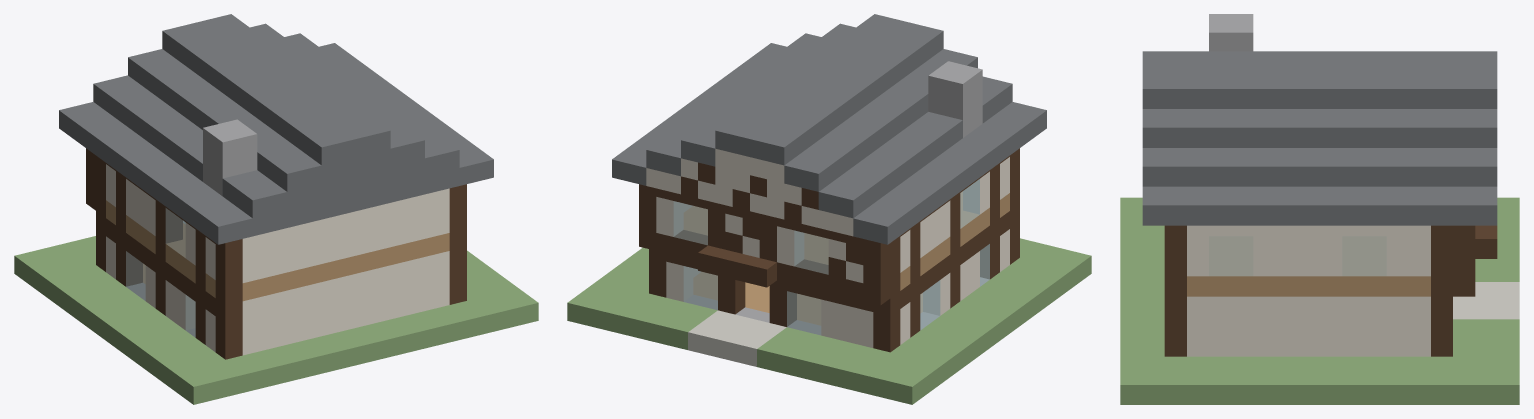
File: street_house.glb
The picture shows the model from 3 angles, left to right: view 1: azimuth 30°, elevation 25°; view 2: azimuth 150°, elevation 25°; view 3: azimuth 270°, elevation 25°; orthographic projection. The views are drawn at different scales.
Visible parts, largest first — view 1: street_house_part_142, street_house_part_136, street_house_part_040, street_house_part_005, street_house_part_102, street_house_part_010, street_house_part_126, street_house_part_135, street_house_part_127, street_house_part_118, street_house_part_128, street_house_part_003 (+20 smaller); view 2: street_house_part_142, street_house_part_005, street_house_part_136, street_house_part_126, street_house_part_002, street_house_part_135, street_house_part_000, street_house_part_118, street_house_part_128, street_house_part_001, street_house_part_137, street_house_part_062 (+52 smaller); view 3: street_house_part_142, street_house_part_003, street_house_part_019, street_house_part_118, street_house_part_128, street_house_part_136, street_house_part_010, street_house_part_064, street_house_part_000, street_house_part_093, street_house_part_039, street_house_part_011 (+15 smaller).
Part boxes in pixels (x1,y1,x2,y2): street_house_part_142: (162, 14, 390, 165); street_house_part_136: (137, 31, 424, 209); street_house_part_040: (242, 251, 449, 355); street_house_part_005: (44, 265, 245, 404); street_house_part_102: (242, 188, 449, 282); street_house_part_010: (226, 301, 486, 392); street_house_part_126: (59, 102, 252, 244); street_house_part_135: (93, 75, 202, 181); street_house_part_127: (252, 168, 459, 236); street_house_part_118: (319, 43, 493, 185); street_house_part_128: (284, 33, 459, 176); street_house_part_003: (467, 250, 538, 333); street_house_part_142: (715, 14, 943, 165); street_house_part_005: (891, 243, 1091, 382); street_house_part_136: (691, 23, 977, 184); street_house_part_126: (853, 102, 1046, 244); street_house_part_002: (757, 327, 942, 404); street_house_part_135: (818, 112, 962, 218); street_house_part_000: (567, 281, 717, 349); street_house_part_118: (612, 43, 786, 185); street_house_part_128: (646, 33, 821, 176); street_house_part_001: (688, 310, 786, 366); street_house_part_137: (928, 61, 982, 137); street_house_part_062: (777, 259, 890, 305); street_house_part_142: (1142, 51, 1497, 108); street_house_part_003: (1120, 356, 1452, 404); street_house_part_019: (1187, 296, 1430, 356); street_house_part_118: (1142, 186, 1497, 225); street_house_part_128: (1142, 148, 1497, 186); street_house_part_136: (1142, 109, 1475, 147); street_house_part_010: (1120, 225, 1164, 356); street_house_part_064: (1187, 267, 1430, 296); street_house_part_000: (1453, 319, 1519, 404); street_house_part_093: (1253, 225, 1342, 276); street_house_part_039: (1164, 225, 1186, 356); street_house_part_011: (1431, 225, 1452, 356).
Bounding box in the file's own units: 20 × 12 × 18.
